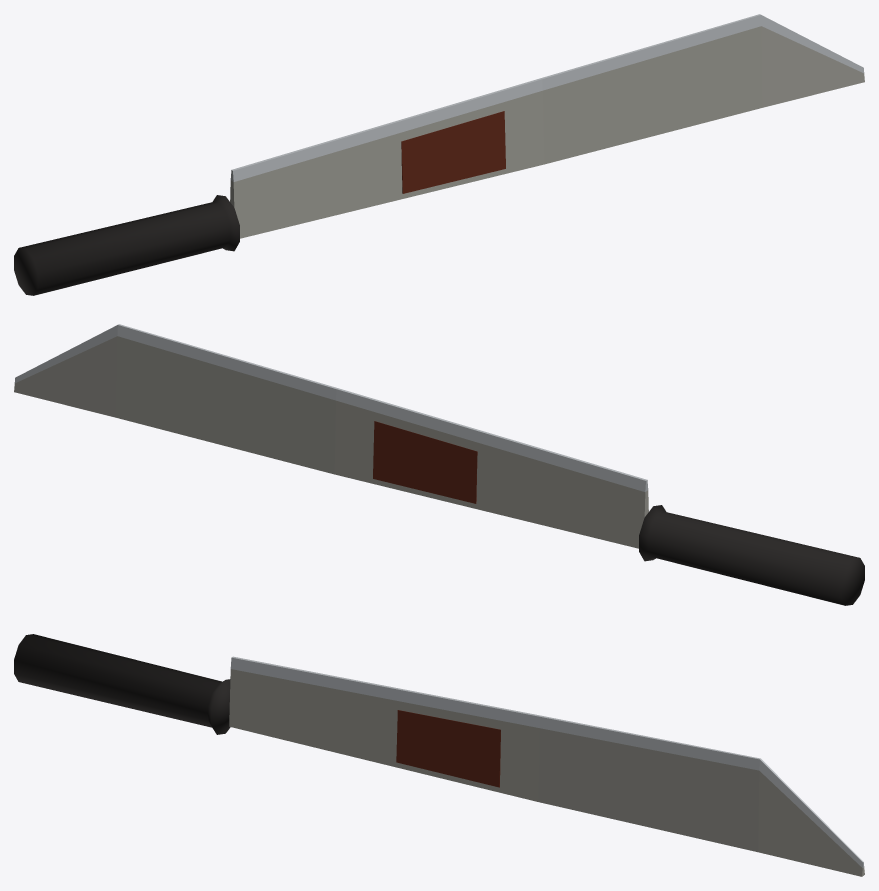
The model's file is held_machete.glb.
The picture shows the model from 3 angles, top to bottom: view 1: azimuth 30°, elevation 25°; view 2: azimuth 150°, elevation 25°; view 3: azimuth 330°, elevation 25°; orthographic projection.
Parts seen in each view (by area): view 1: blade, grip, edge, rust; view 2: blade, grip, edge, rust; view 3: blade, grip, edge, rust.
Boxes of the visible parts, x1=… form: blade: x1=230, y1=26, x2=864, y2=238; grip: x1=14, y1=195, x2=239, y2=295; edge: x1=230, y1=14, x2=864, y2=181; rust: x1=401, y1=111, x2=505, y2=193; blade: x1=14, y1=336, x2=648, y2=548; grip: x1=639, y1=505, x2=864, y2=605; edge: x1=14, y1=324, x2=648, y2=491; rust: x1=373, y1=421, x2=477, y2=503; blade: x1=229, y1=669, x2=864, y2=876; grip: x1=14, y1=634, x2=230, y2=734; edge: x1=230, y1=656, x2=864, y2=867; rust: x1=396, y1=710, x2=500, y2=787.
Bounding box in the file's own units: 0.65 × 0.078 × 0.038.
